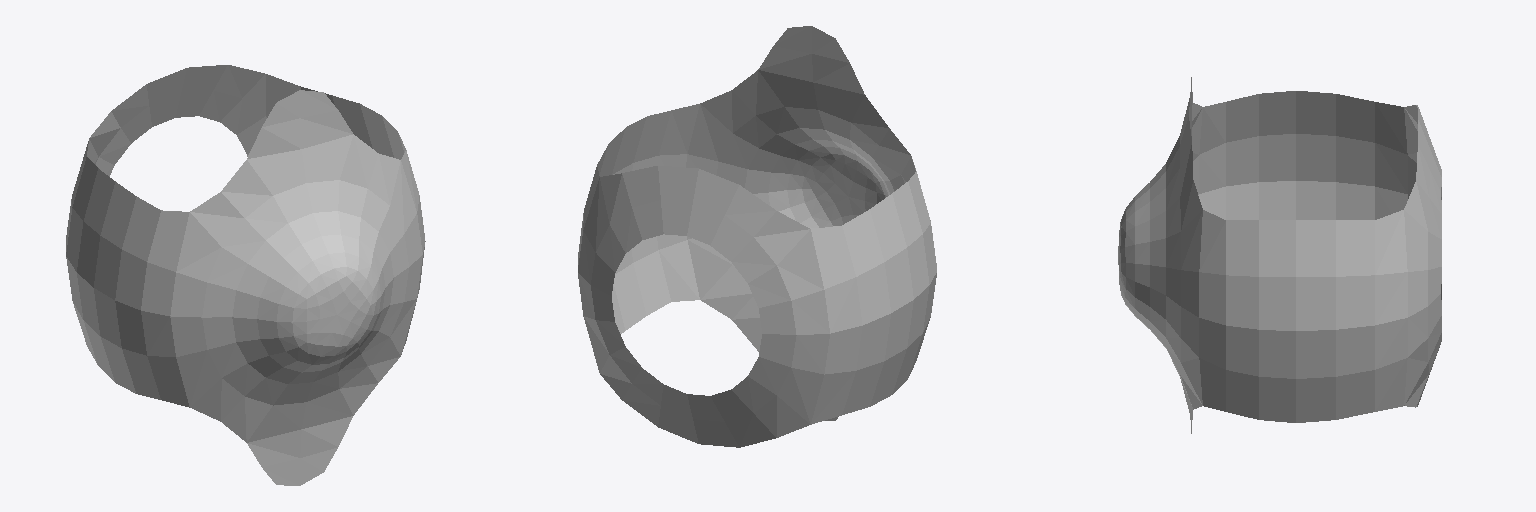
The model's file is lampB-sub1.obj.
3 renders of one model, left to right at view 1: azimuth 30°, elevation 25°; view 2: azimuth 150°, elevation 25°; view 3: azimuth 270°, elevation 25°, orthographic.
Parts seen in each view (by area): view 1: Plane; view 2: Plane; view 3: Plane.
Part boxes in pixels (x1,y1,x2,y2): Plane: (66,65,425,485); Plane: (578,26,936,447); Plane: (1118,77,1441,433).
Bounding box in the file's own units: 4.41 × 5.41 × 4.